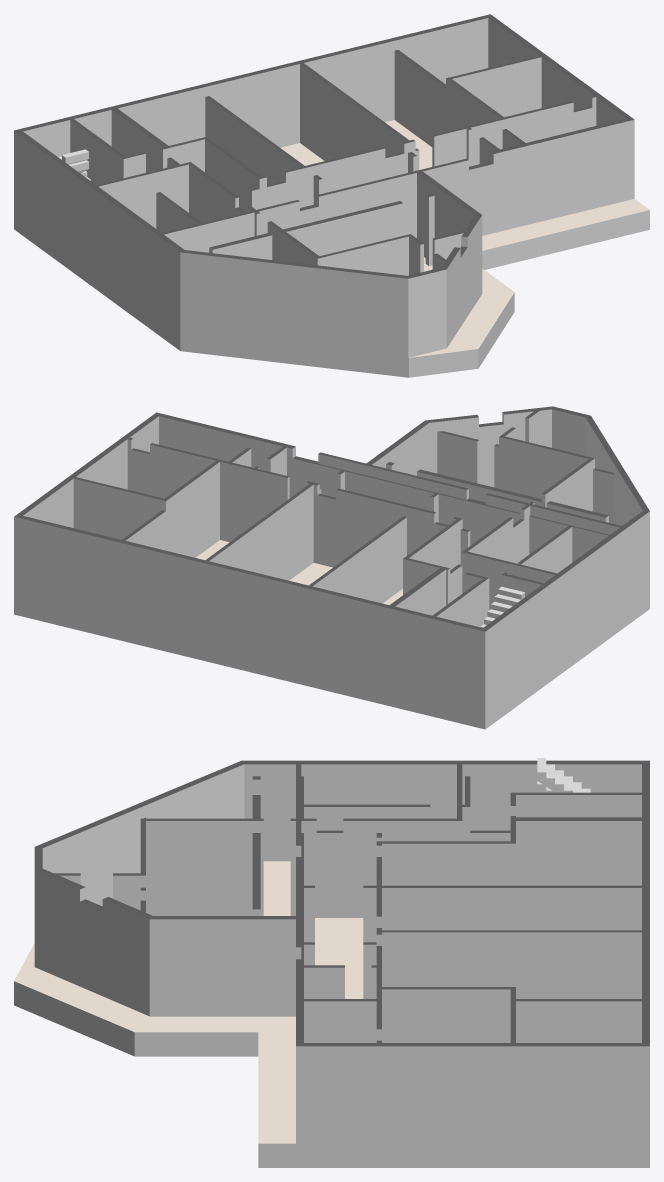
The picture shows the model from 3 angles, top to bottom: view 1: azimuth 30°, elevation 25°; view 2: azimuth 150°, elevation 25°; view 3: azimuth 270°, elevation 25°; orthographic projection. The views are drawn at different scales.
Visible parts, largest first — view 1: 2ND_FLOORESEP, 1ST_FLOORESEP, 3RD_FLOORESEP; view 2: 2ND_FLOORESEP, 1ST_FLOORESEP, 3RD_FLOORESEP; view 3: 1ST_FLOORESEP, 2ND_FLOORESEP, 3RD_FLOORESEP.
Part boxes in pixels (box(x1,y1,x2,y2)): 2ND_FLOORESEP: box(14, 14, 649, 367); 1ST_FLOORESEP: box(14, 28, 649, 377); 3RD_FLOORESEP: box(14, 28, 634, 334); 2ND_FLOORESEP: box(14, 406, 649, 719); 1ST_FLOORESEP: box(14, 419, 649, 729); 3RD_FLOORESEP: box(42, 426, 627, 694); 1ST_FLOORESEP: box(14, 776, 649, 1167); 2ND_FLOORESEP: box(14, 758, 649, 1155); 3RD_FLOORESEP: box(296, 776, 649, 1167).
Bounding box in the file's own units: 25.22 × 5.25 × 23.74.
